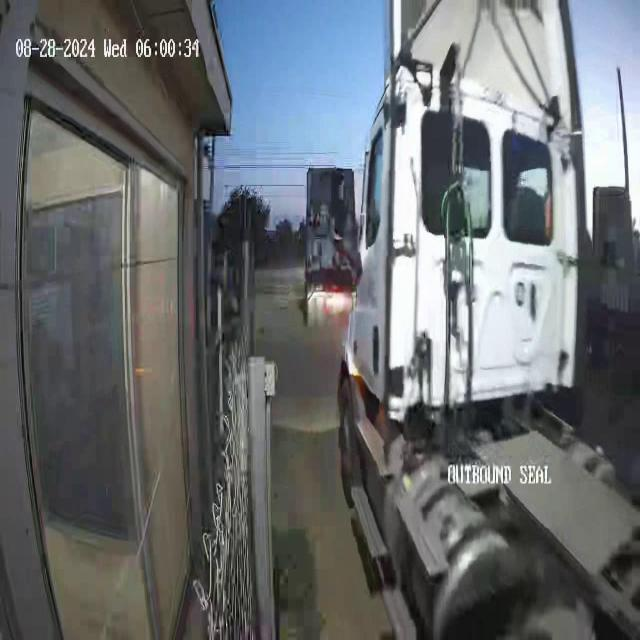TRUCK_OUT: (339, 0, 639, 640)
